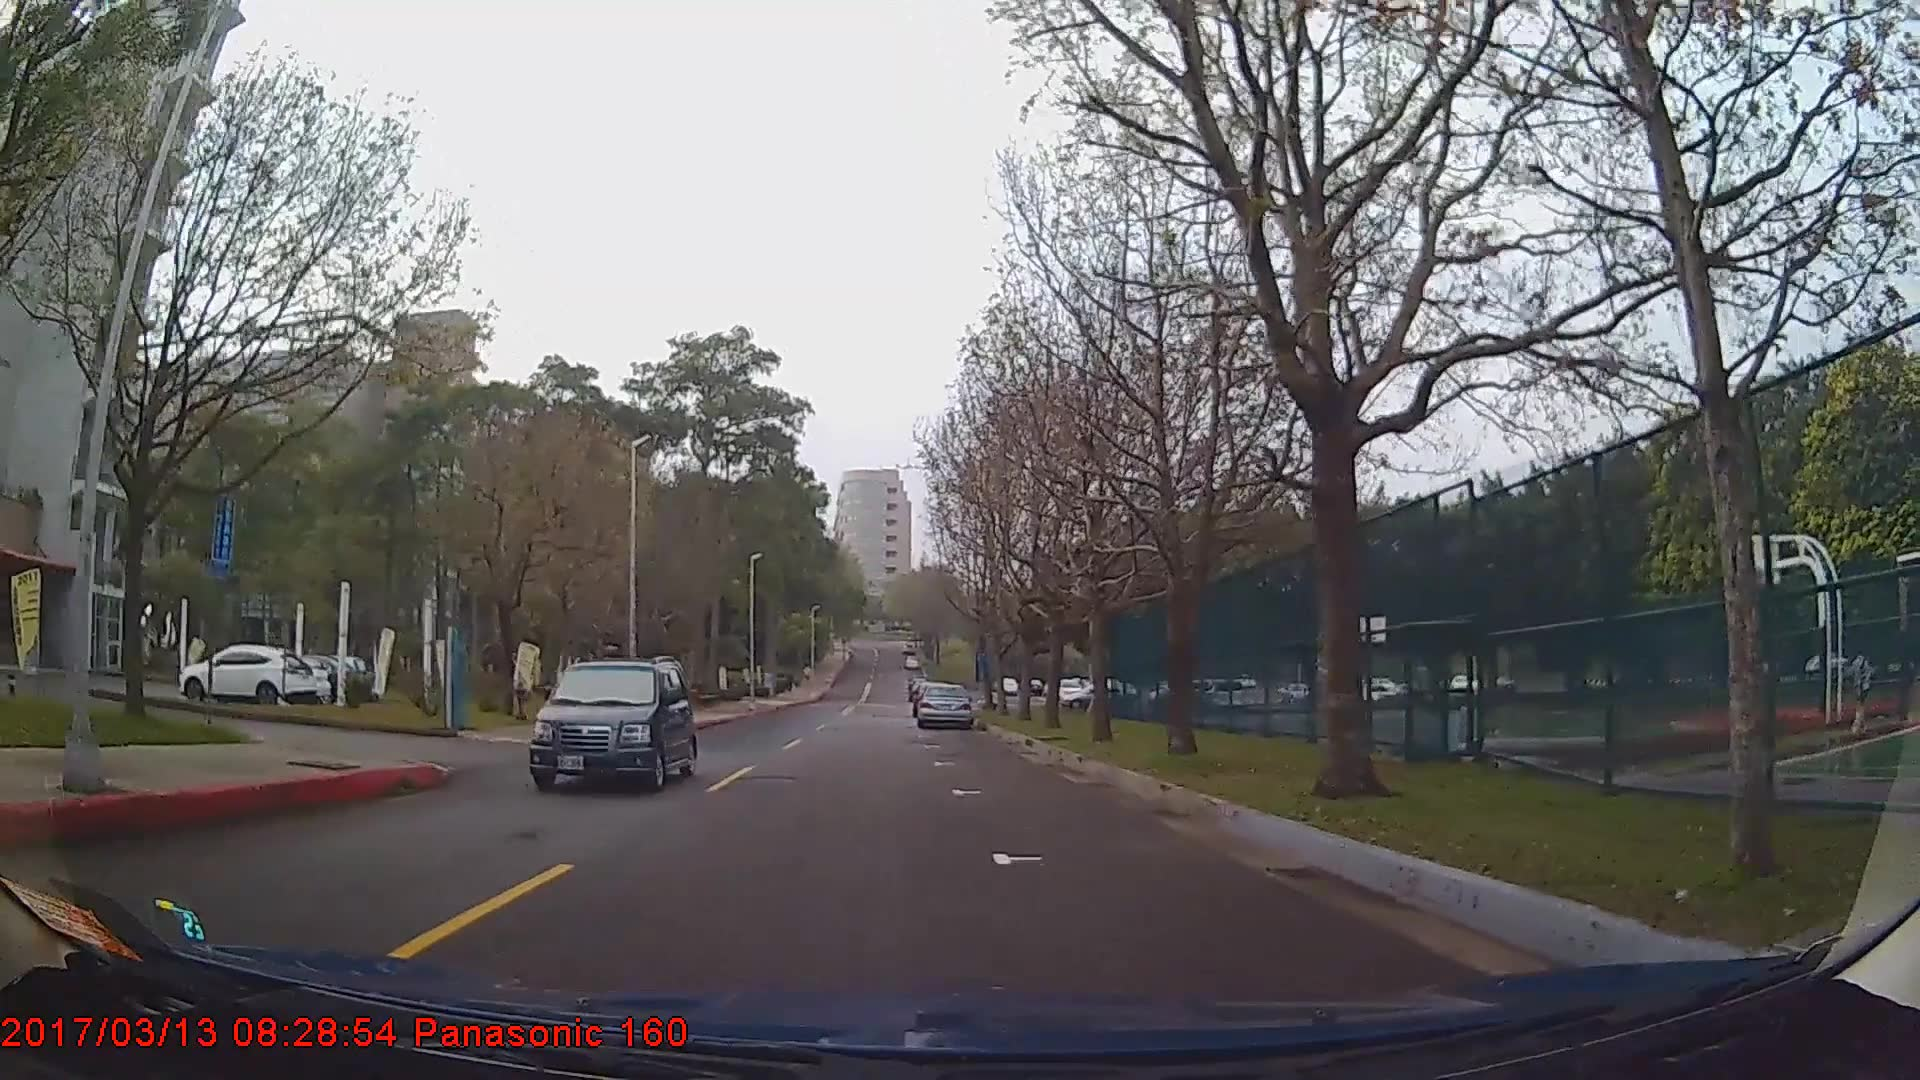vehicle: (527, 658, 695, 795), (177, 645, 315, 711), (914, 684, 972, 733)
